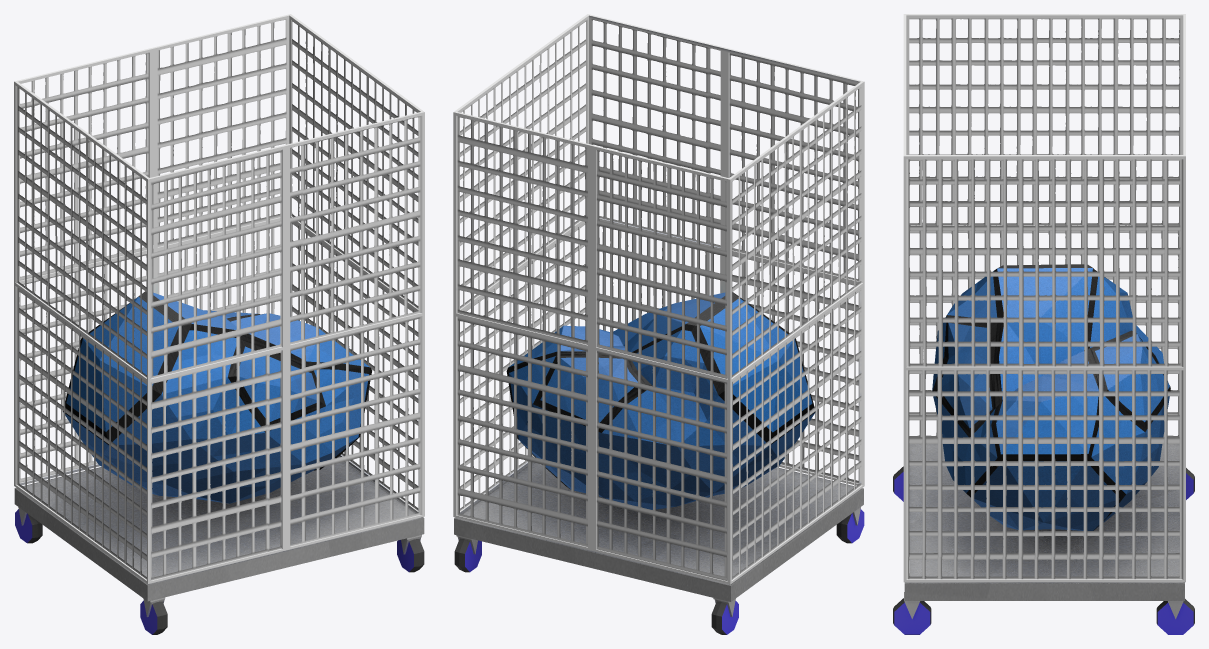
File: cage.dae
3 views of the same model, side by side, from view 1: azimuth 30°, elevation 25°; view 2: azimuth 150°, elevation 25°; view 3: azimuth 270°, elevation 25° (orthographic). The views are drawn at different scales.
Visible parts, largest first — view 1: grids, cage, potato; view 2: grids, cage, potato; view 3: grids, cage, potato.
Boxes of the visible parts, box(x1,y1,x2,y2) form: grids: box(17, 19, 420, 580); cage: box(14, 14, 424, 634); potato: box(63, 291, 372, 503); grids: box(457, 19, 861, 580); cage: box(453, 14, 864, 634); potato: box(506, 292, 815, 509); grids: box(908, 18, 1181, 579); cage: box(893, 14, 1194, 634); potato: box(932, 264, 1170, 530).
Size of the model in its own units: 1.26 by 1.13 by 2.
3 materials, 3 textured.
